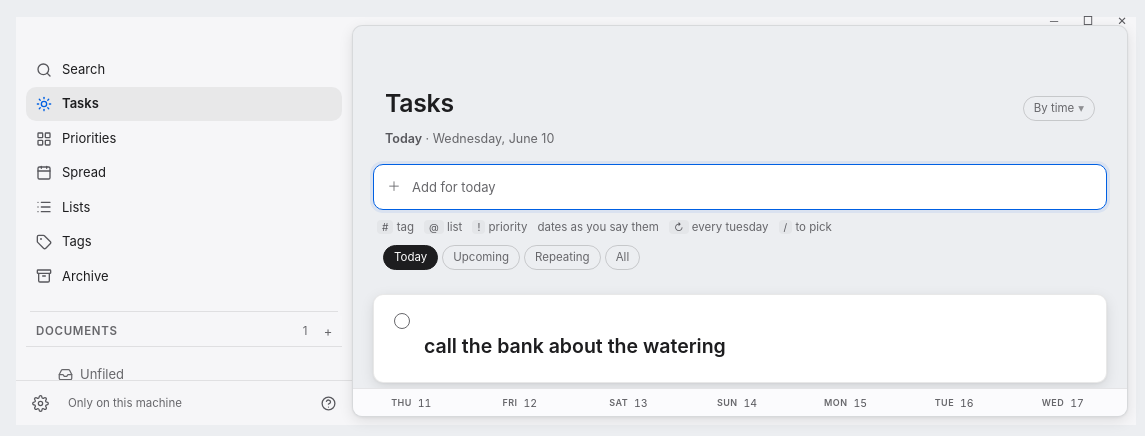
Test: a search that reaches the documents › keeps the plain empty message when no document matched either
Expected: the heading "call the bank about the watering" is shown, [424,334,726,358]
Click the button "Search": (84, 69) [26,53,342,86]
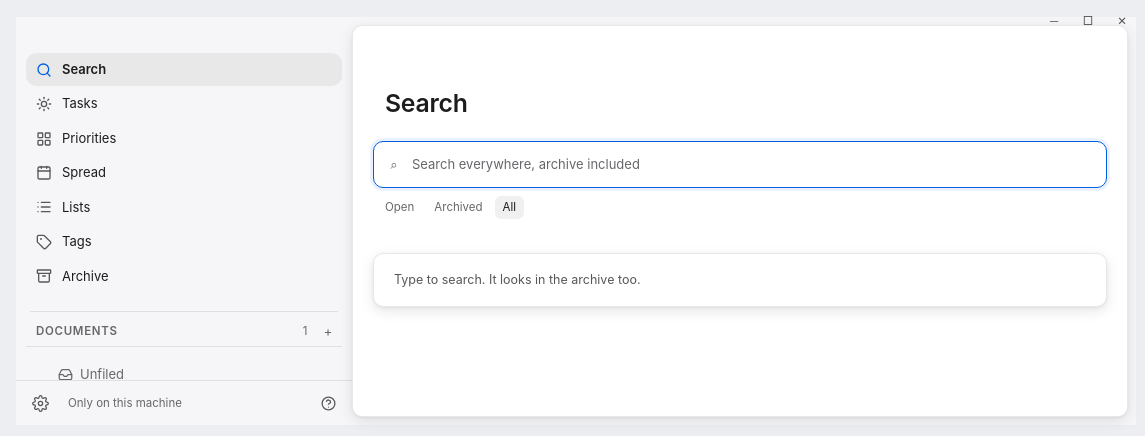
In the field labelled "Search everywhere, archive included": (753, 164) [412,154,1094,174], type "hose"
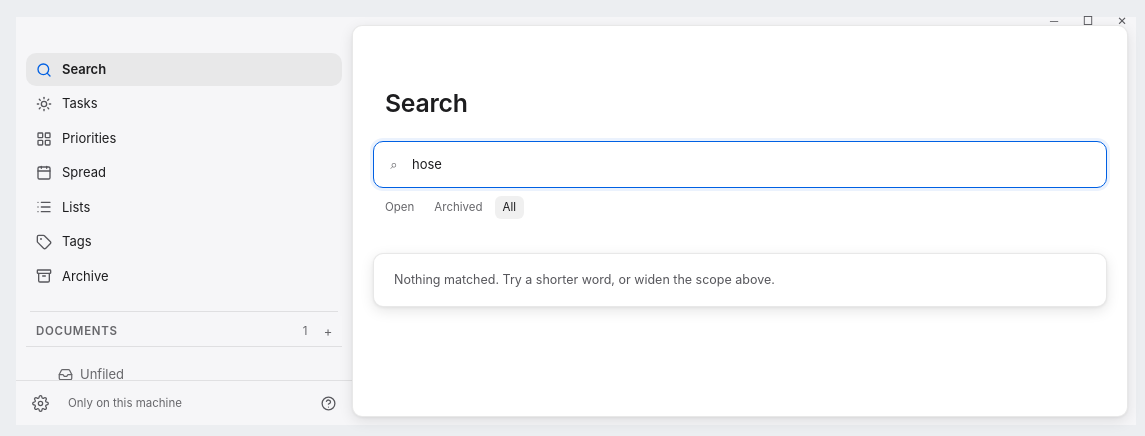
Expected: the text "Nothing matched" is shown, [394,272,775,287]
